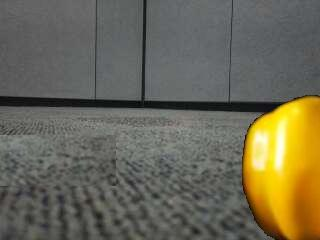Capsicum: (243, 96, 320, 240)
